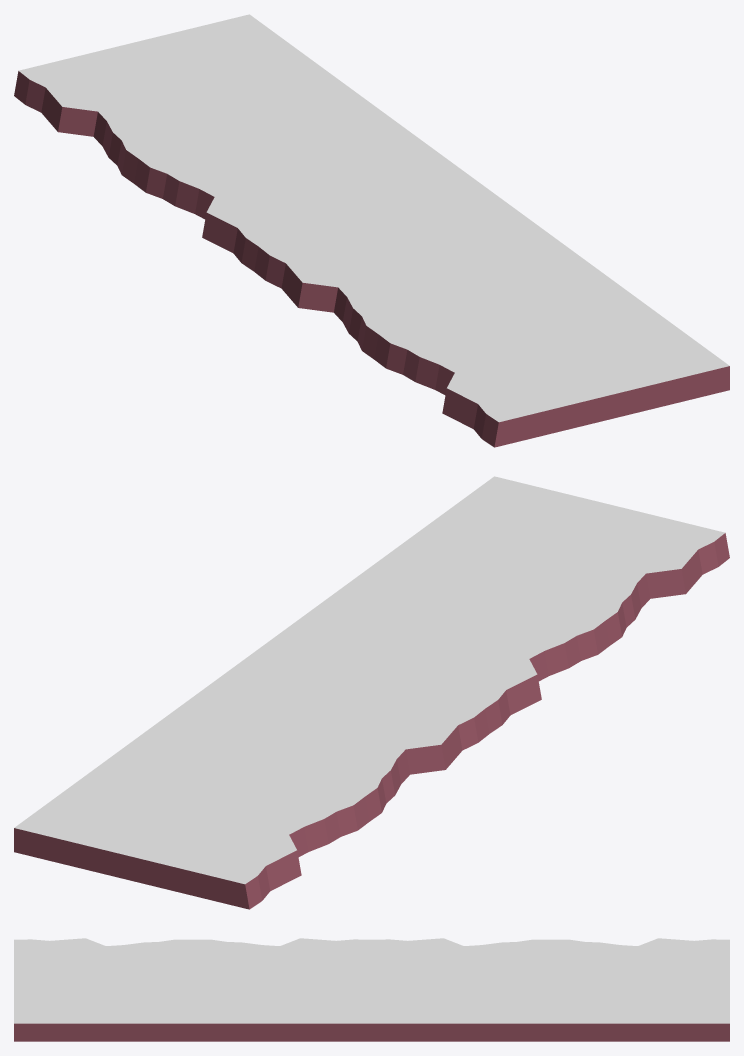
The picture shows the model from 3 angles, top to bottom: view 1: azimuth 30°, elevation 25°; view 2: azimuth 150°, elevation 25°; view 3: azimuth 270°, elevation 25°; orthographic projection. The views are drawn at different scales.
Visible parts, largest first — view 1: Plane; view 2: Plane; view 3: Plane.
Boxes of the visible parts, x1=… form: Plane: x1=14, y1=14, x2=729, y2=447; Plane: x1=14, y1=476, x2=729, y2=909; Plane: x1=14, y1=938, x2=729, y2=1041.
Bounding box in the file's own units: 1037 × 100 × 3600.
